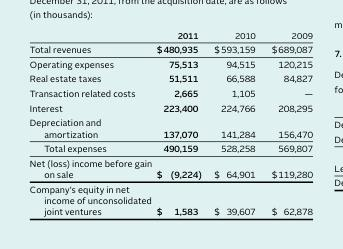table: (28, 29, 312, 217)
table column: (28, 29, 153, 217), (207, 29, 262, 217), (153, 29, 207, 217), (262, 29, 312, 217)
table column header: (28, 29, 312, 41)
table row: (28, 181, 312, 217), (28, 114, 312, 140), (28, 155, 312, 181), (28, 41, 312, 56), (28, 56, 312, 71), (28, 85, 312, 100), (28, 140, 312, 155), (28, 71, 312, 85), (28, 100, 312, 114), (28, 29, 312, 41)
